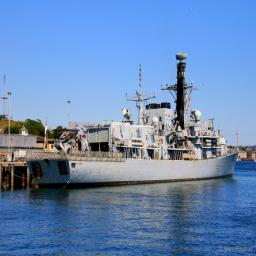Fragata: (25, 62, 241, 193)
